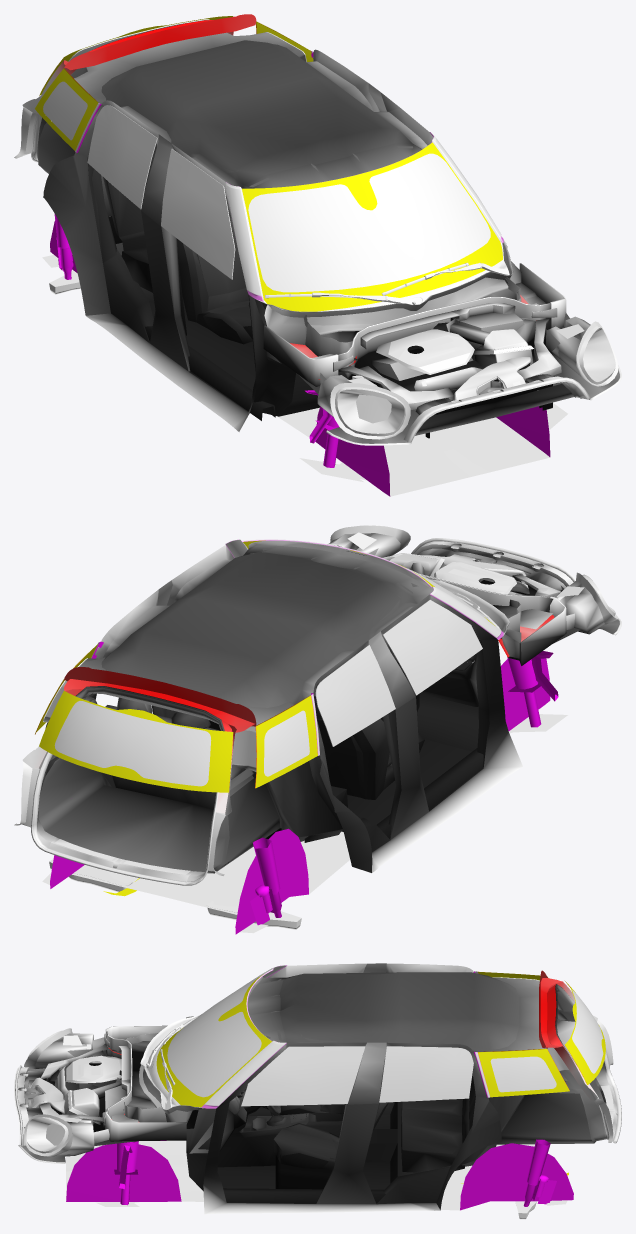
File: Car_Mini_CountrymanJCW_2017.fbx
3 views of the same model, one above another, from view 1: azimuth 30°, elevation 25°; view 2: azimuth 150°, elevation 25°; view 3: azimuth 270°, elevation 25° (orthographic). The views are drawn at different scales.
Parts seen in each view (by area): view 1: Interior 5, Chassis 7, Glass 6, DoorR_Glass 6, FenderRR_Part_Door_Glass 6, Boot_Glass 6; view 2: Interior 5, Chassis 7, Boot_Glass 6, DoorR_Glass 6, FenderRR_Part_Door_Glass 6, Glass 6; view 3: Interior 5, Chassis 7, Glass 6, DoorL_Glass 6, FenderRL_Part_Door_Glass 6, Boot_Glass 6.
Part boxes in pixels (bbox=[...]): Interior 5: bbox=[14, 14, 433, 431]; Chassis 7: bbox=[42, 51, 621, 496]; Glass 6: bbox=[35, 21, 502, 311]; DoorR_Glass 6: bbox=[161, 148, 235, 279]; FenderRR_Part_Door_Glass 6: bbox=[87, 105, 157, 209]; Boot_Glass 6: bbox=[39, 16, 233, 95]; Interior 5: bbox=[14, 541, 522, 885]; Chassis 7: bbox=[42, 525, 621, 934]; Boot_Glass 6: bbox=[39, 691, 233, 792]; DoorR_Glass 6: bbox=[382, 600, 482, 695]; FenderRR_Part_Door_Glass 6: bbox=[315, 645, 395, 746]; Glass 6: bbox=[35, 540, 494, 788]; Interior 5: bbox=[186, 963, 621, 1214]; Chassis 7: bbox=[14, 965, 573, 1219]; Glass 6: bbox=[156, 971, 569, 1107]; DoorL_Glass 6: bbox=[241, 1046, 365, 1106]; FenderRL_Part_Door_Glass 6: bbox=[379, 1046, 473, 1102]; Boot_Glass 6: bbox=[565, 981, 605, 1084].
Bounding box in the file's own units: 1.76 × 1.34 × 4.08.
